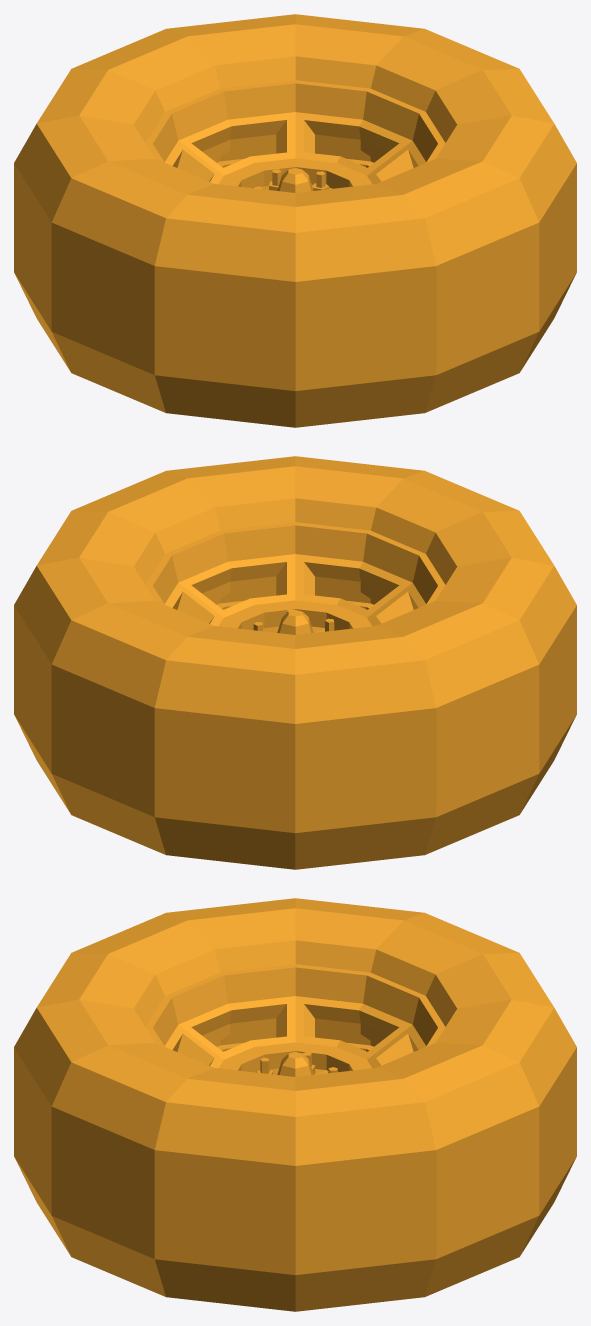
Rendered from SM_Wheel_Single_Muscle_Car.fbx.
The picture shows the model from 3 angles, top to bottom: view 1: azimuth 30°, elevation 25°; view 2: azimuth 150°, elevation 25°; view 3: azimuth 270°, elevation 25°; orthographic projection.
Visible parts, largest first — view 1: SM_Wheel_Single_Muscle_Car; view 2: SM_Wheel_Single_Muscle_Car; view 3: SM_Wheel_Single_Muscle_Car.
Part boxes in pixels (x1,y1,x2,y2): SM_Wheel_Single_Muscle_Car: (14, 14, 576, 427); SM_Wheel_Single_Muscle_Car: (14, 456, 576, 869); SM_Wheel_Single_Muscle_Car: (14, 898, 576, 1311).
Size of the model in its own units: 0.7571 by 0.3011 by 0.7571.
